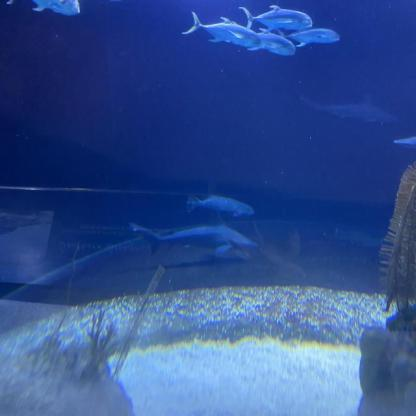fish: (186, 12, 260, 48), (241, 7, 315, 31), (3, 0, 87, 20), (189, 193, 256, 218), (249, 28, 296, 60), (285, 25, 342, 46)
shark: (123, 216, 273, 260), (297, 96, 392, 126)
